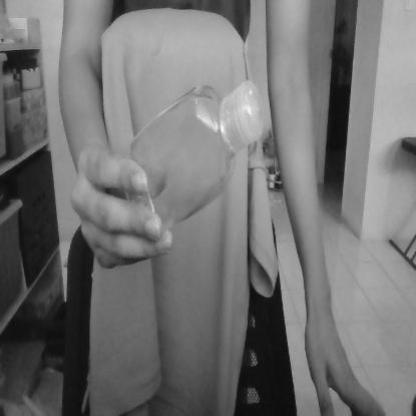Plastic Bottle: (122, 69, 265, 233)
